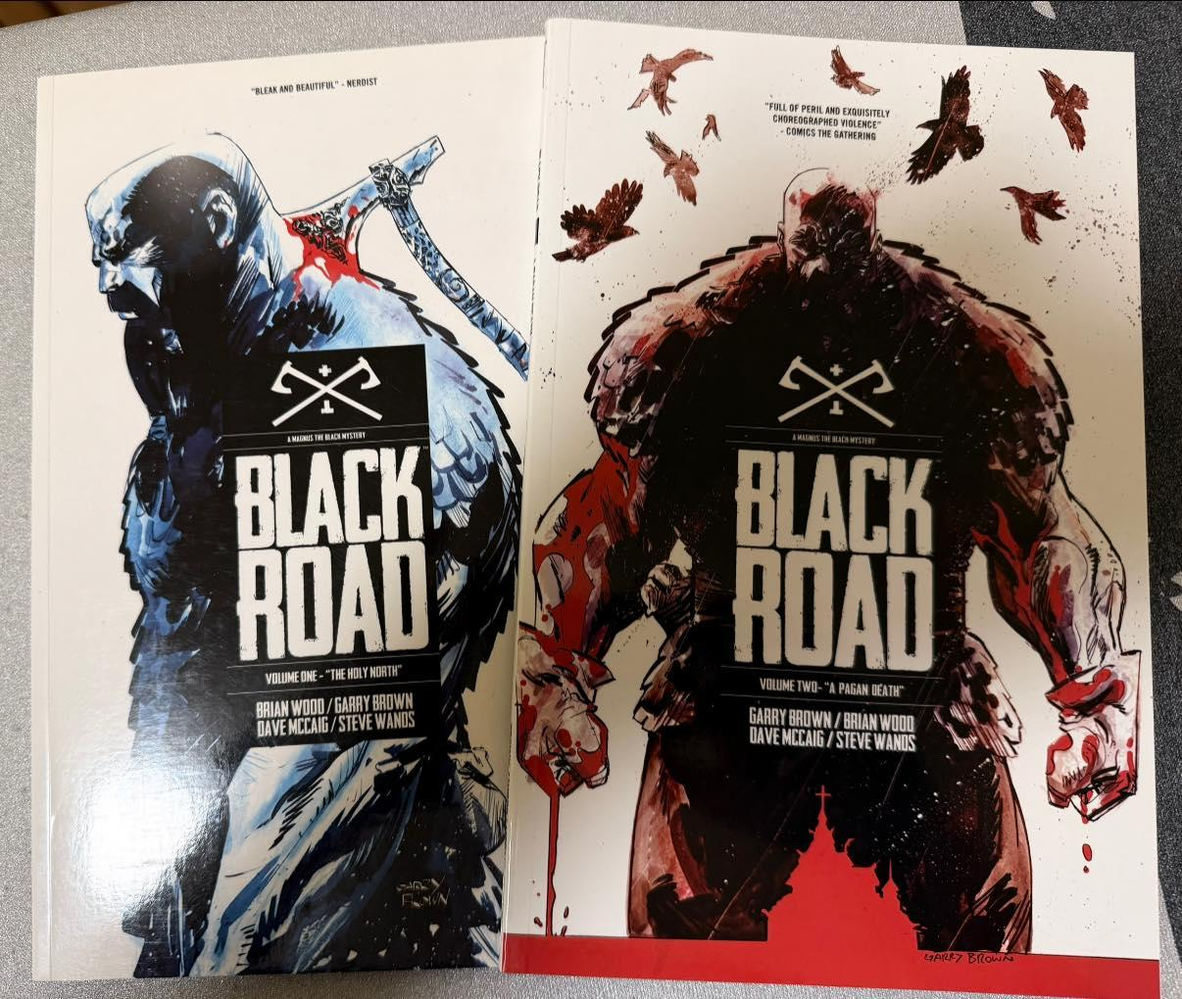comic: (502, 20, 1182, 999), (24, 31, 542, 985)
